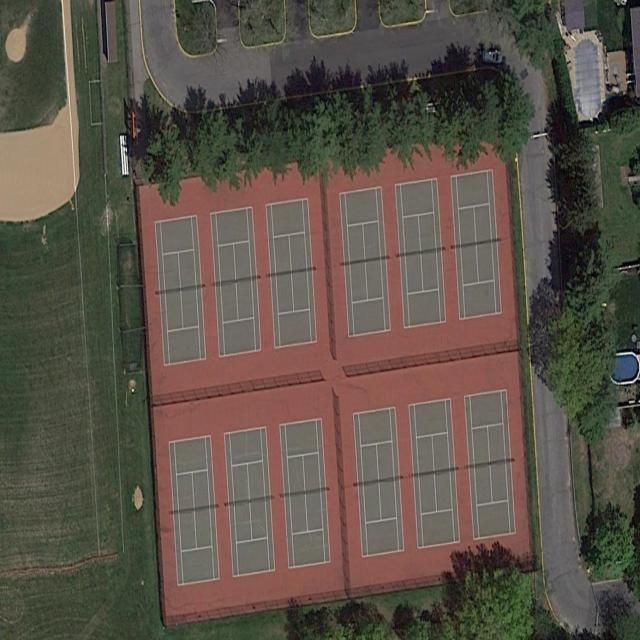small-vehicle: (483, 50, 503, 64)
